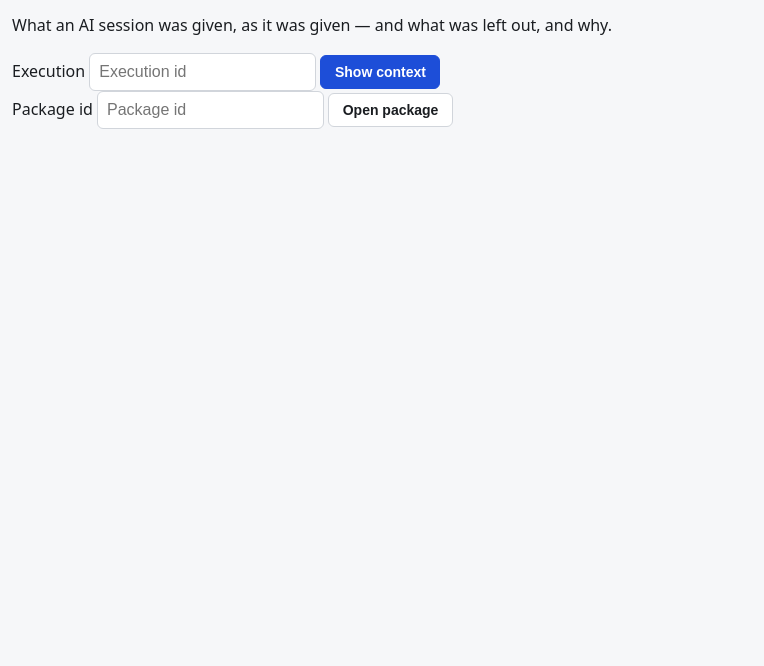
Test: T1268 · the Context screen › shows what excluded an item in place, reason and detail (FR-CTX-073)
This screenshot has width=764, height=666.
Type "ex_1" into the field labelled "Execution" at (203, 72), box [89, 53, 316, 91]
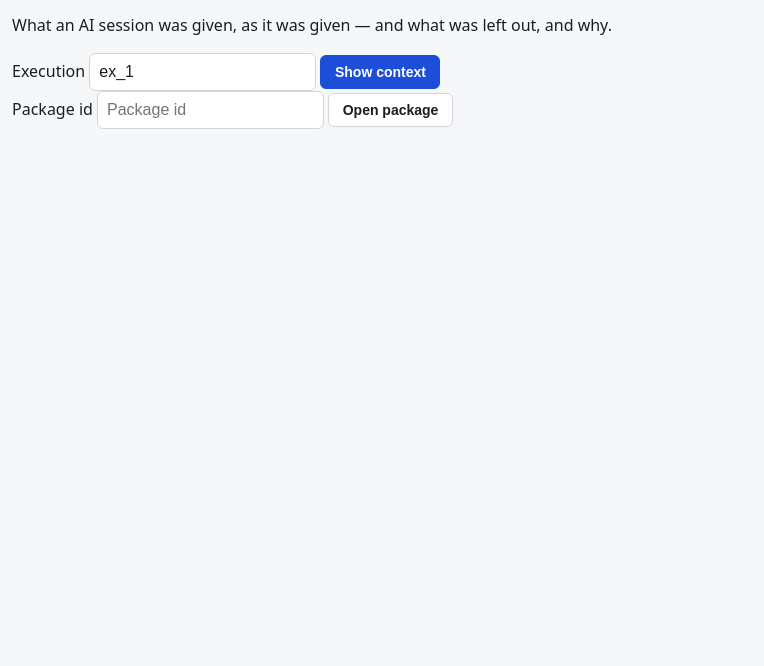
Click the button "Show context" at (380, 72), box [320, 55, 440, 89]
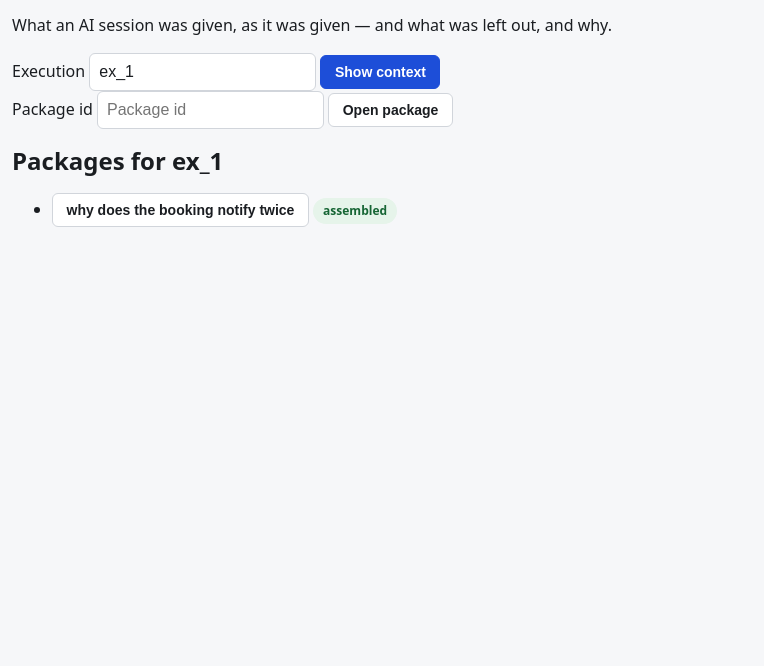
Expected: the heading "Packages for ex_1" is shown, [12, 144, 223, 177]
Click the button "why does the booking notify twice" at (180, 210), box [52, 193, 309, 227]
(page scrolled)
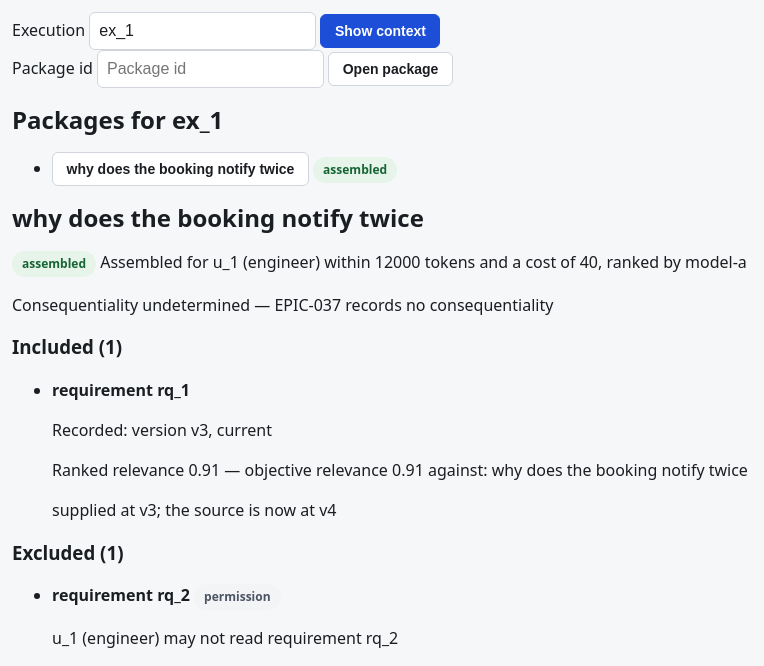
Expected: the text "permission" is shown, [194, 584, 281, 610]
Expected: the text "u_1 (engineer) may not read requirement rq_2" is shown, [52, 627, 398, 649]
